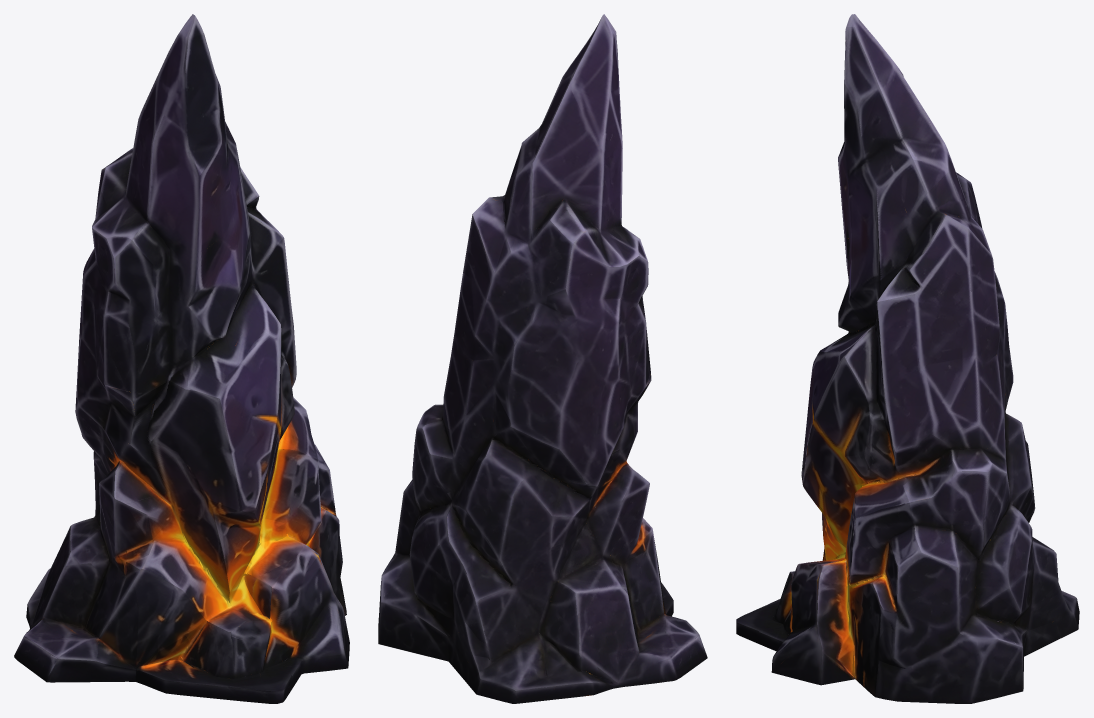
Rendered from obsidian_spire.glb.
The picture shows the model from 3 angles, left to right: view 1: azimuth 30°, elevation 25°; view 2: azimuth 150°, elevation 25°; view 3: azimuth 270°, elevation 25°; orthographic projection. The views are drawn at different scales.
Size of the model in its own units: 0.9464 by 1.9 by 0.9708.
1 material, 1 textured.
